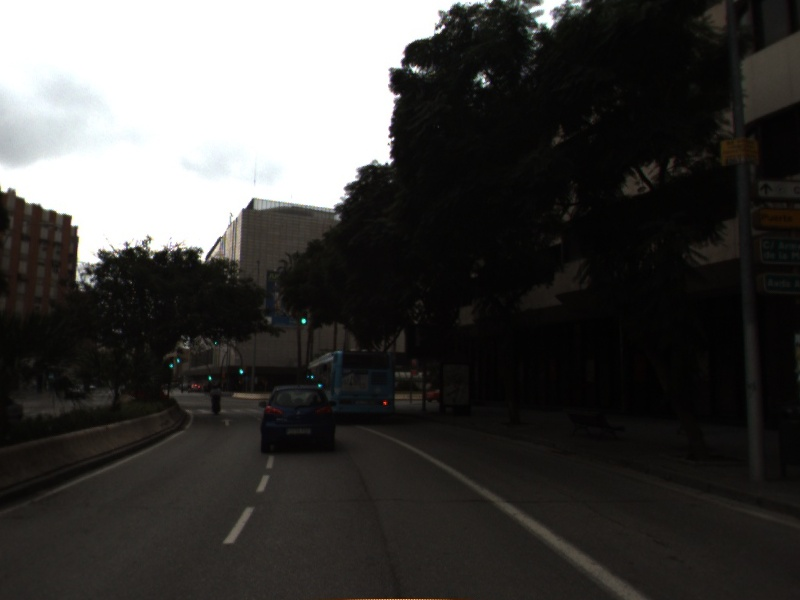STRAIGHT: (218, 417, 237, 428)
